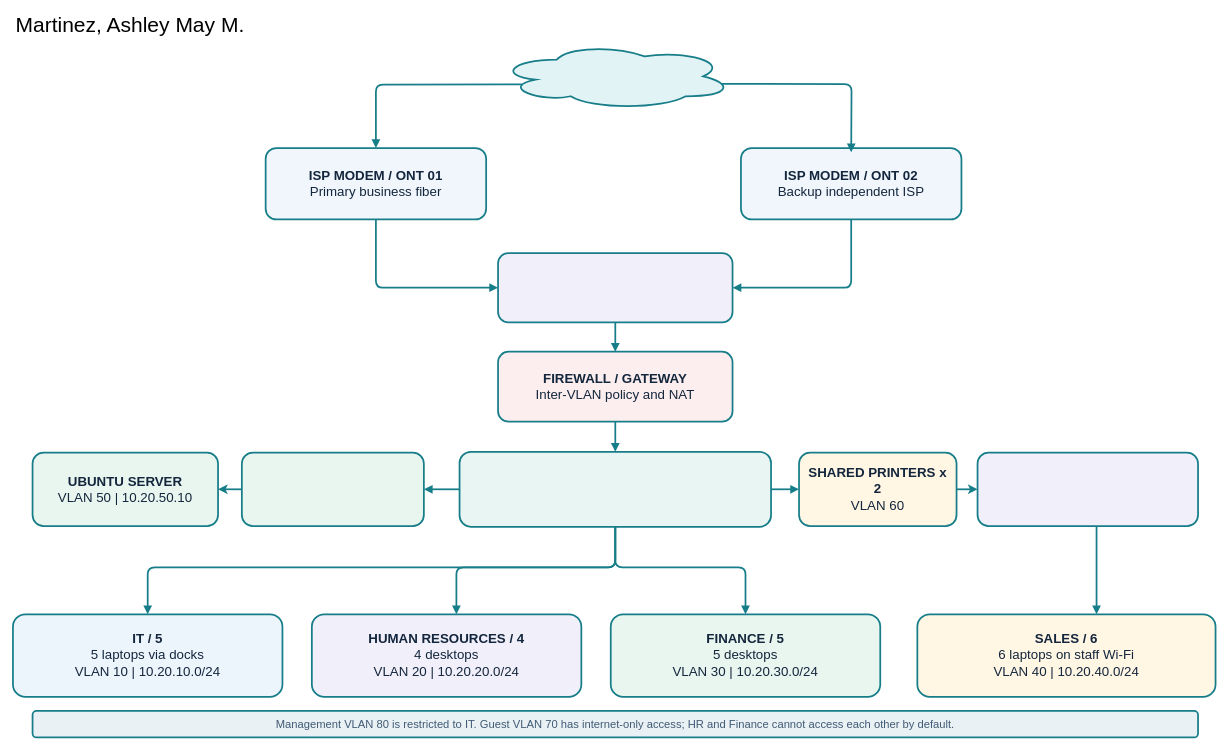
The diagram is 1229 pixels wide and 750 high, and some of its shapes have lost their labels. Each missing label, with the box of its shape:
DUAL-WAN ROUTER Failover / route selection: (497, 252, 733, 323)
INTERNET Business WAN: (497, 42, 733, 110)
MANAGED PoE+ SWITCH 48 ports / 802.1Q trunks: (458, 451, 772, 527)
NAS / BACKUP STORAGE VLAN 50 | 10.20.50.20: (241, 451, 424, 527)
WI-FI ACCESS POINTS x 2 Staff VLAN 40 / guest VLAN 70: (976, 451, 1199, 527)
